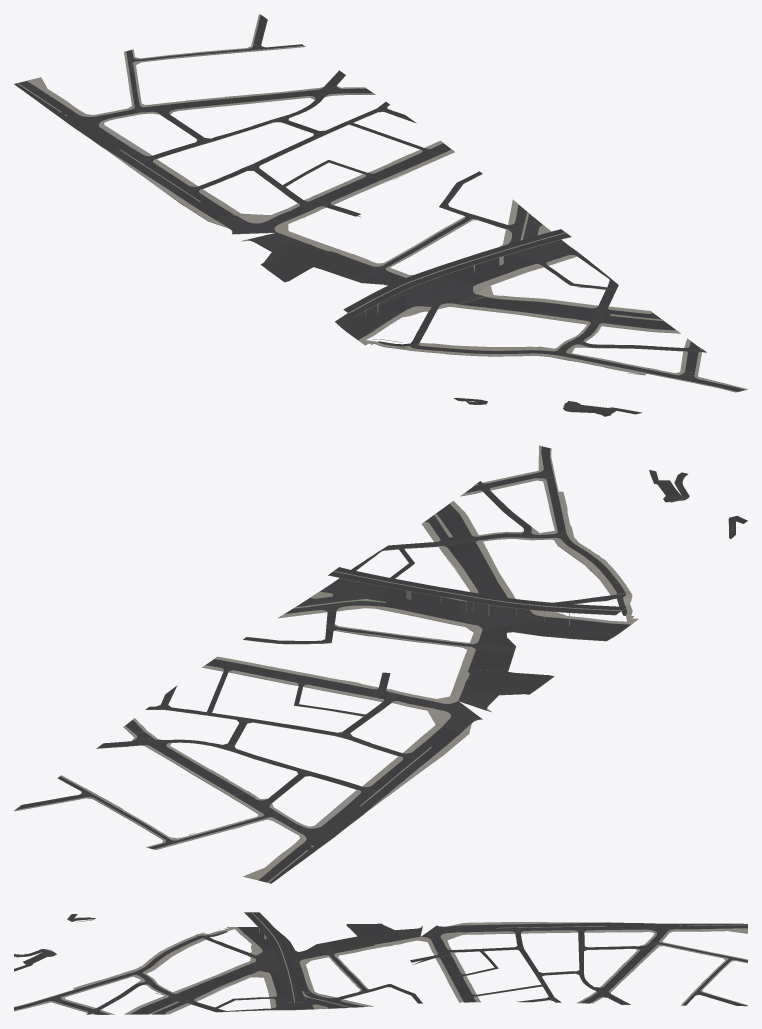
Rendered from exterior-east.glb.
3 renders of one model, top to bottom at view 1: azimuth 30°, elevation 25°; view 2: azimuth 150°, elevation 25°; view 3: azimuth 270°, elevation 25°, orthographic. The views are drawn at different scales.
Parts seen in each view (by area): view 1: ground_road, ground_sidewalk, ground_intersection, ground_kerb; view 2: ground_road, ground_sidewalk, ground_intersection, ground_kerb; view 3: ground_road, ground_sidewalk, ground_intersection, ground_kerb.
Boxes of the visible parts, x1,y1,x2,y2 form: ground_road: [14, 15, 744, 416]; ground_sidewalk: [17, 14, 747, 391]; ground_intersection: [18, 45, 702, 411]; ground_kerb: [14, 38, 747, 416]; ground_road: [15, 446, 747, 883]; ground_sidewalk: [14, 445, 638, 882]; ground_intersection: [79, 470, 689, 882]; ground_kerb: [14, 446, 747, 883]; ground_road: [14, 912, 747, 1014]; ground_sidewalk: [14, 912, 747, 1014]; ground_intersection: [39, 923, 747, 1014]; ground_kerb: [14, 912, 747, 1014].
Bounding box in the file's own units: 230 × 18.74 × 800.
7 materials, 2 textured.
